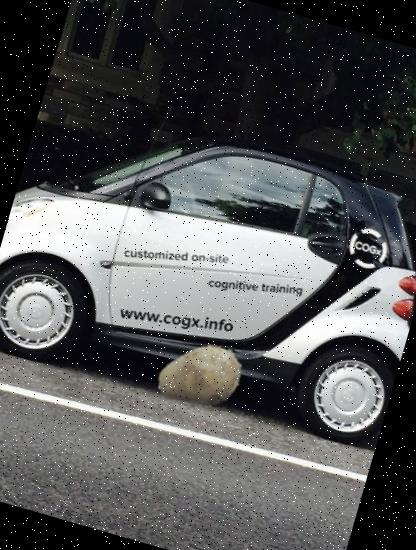Potato: (146, 324, 254, 432)
